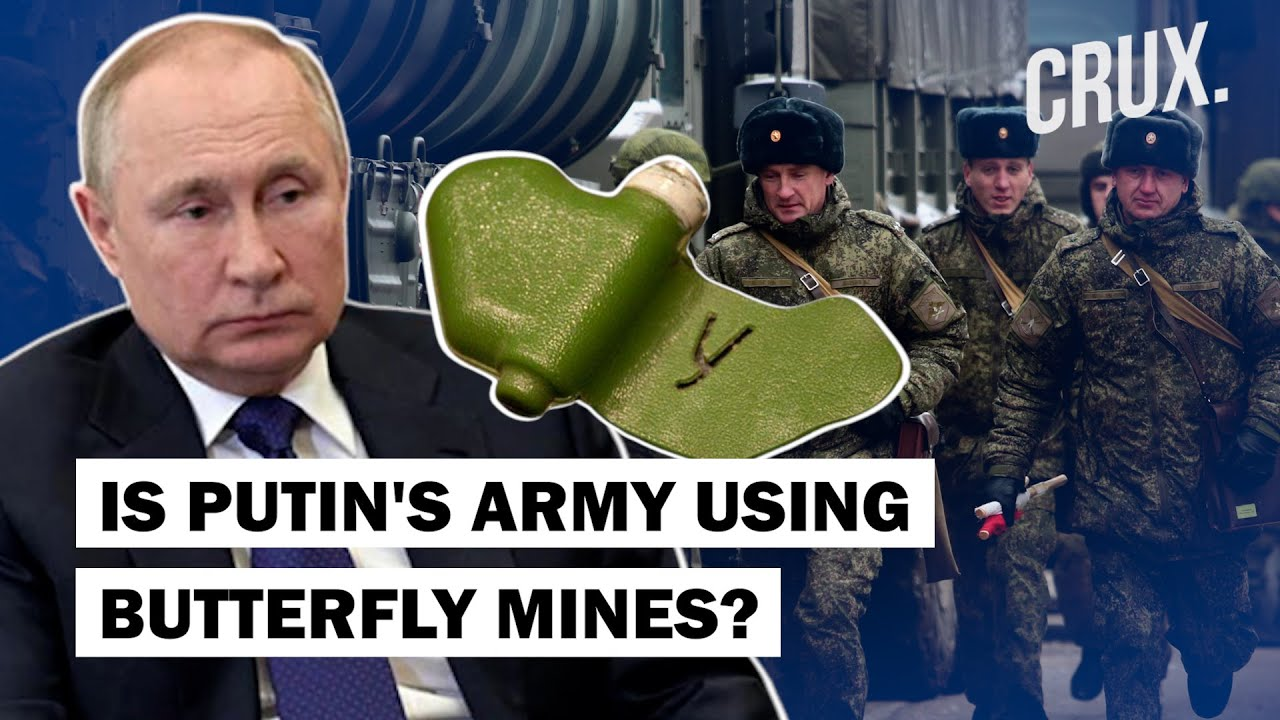butterfly: (408, 144, 921, 470)
